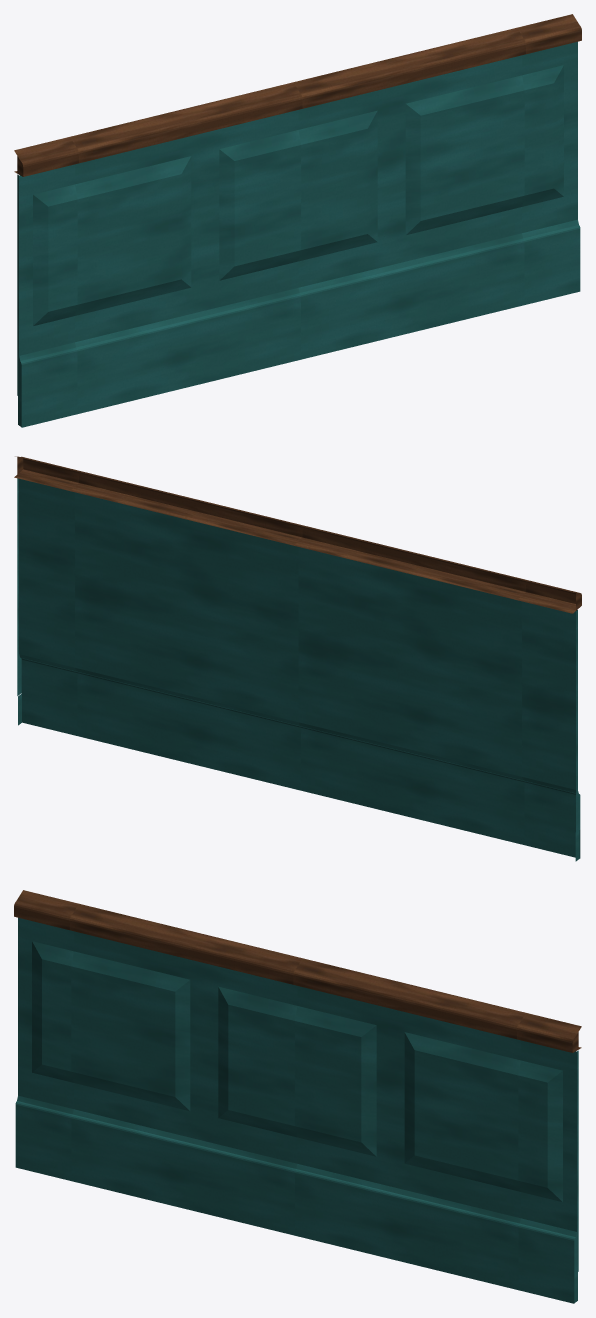
Rendered from wainscot.glb.
The picture shows the model from 3 angles, top to bottom: view 1: azimuth 30°, elevation 25°; view 2: azimuth 150°, elevation 25°; view 3: azimuth 330°, elevation 25°; orthographic projection.
Visible parts, largest first — view 1: Wainscot_tealPaint, Wainscot_oakDark; view 2: Wainscot_tealPaint, Wainscot_oakDark; view 3: Wainscot_tealPaint, Wainscot_oakDark.
Part boxes in pixels (<box>): Wainscot_tealPaint: <box>17,41,580,427</box>; Wainscot_oakDark: <box>14,14,581,176</box>; Wainscot_tealPaint: <box>17,478,580,861</box>; Wainscot_oakDark: <box>14,456,581,613</box>; Wainscot_tealPaint: <box>15,917,578,1303</box>; Wainscot_oakDark: <box>14,890,581,1052</box>.
Size of the model in its own units: 2 by 0.93 by 0.057.
2 materials, 2 textured.
